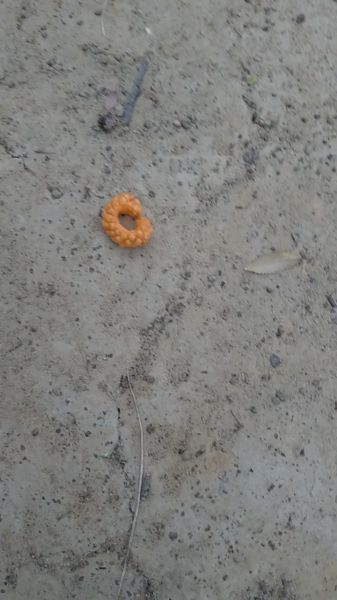eggs: (107, 191, 156, 254)
